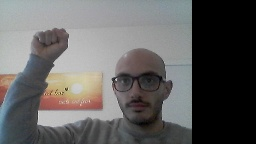Pugno: (29, 27, 70, 57)
